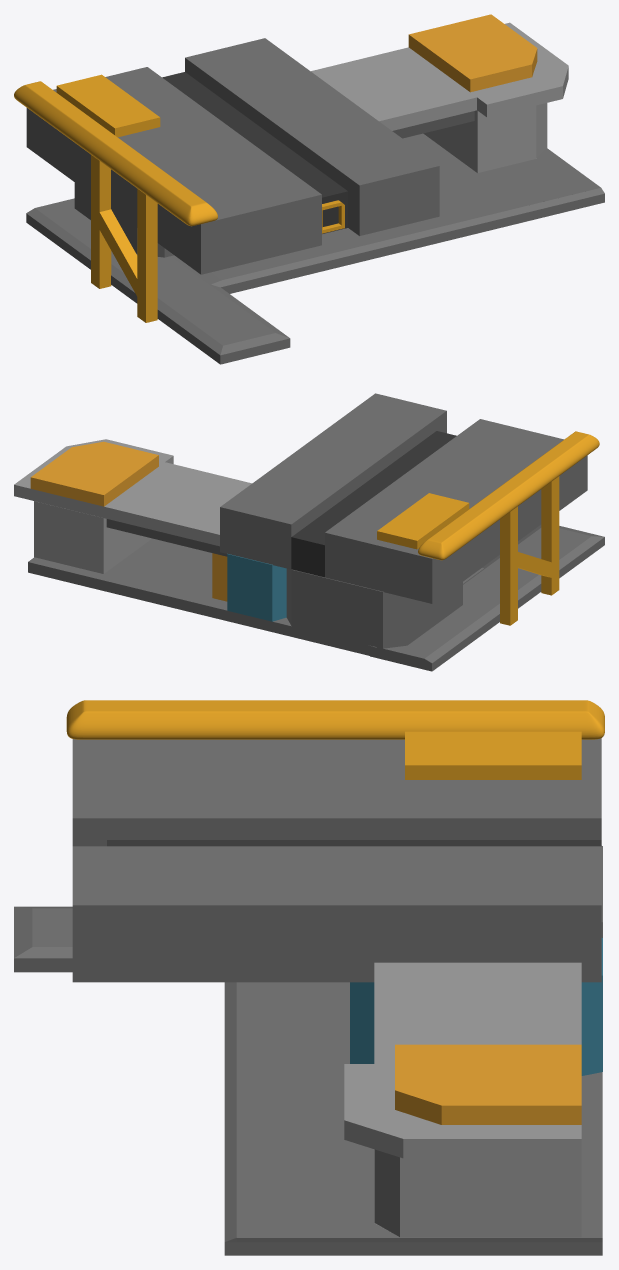
3 renders of one model, top to bottom at view 1: azimuth 30°, elevation 25°; view 2: azimuth 150°, elevation 25°; view 3: azimuth 270°, elevation 25°, orthographic. The views are drawn at different scales.
Visible parts, largest first — view 1: Cube.004, Cube.008, Cube.012, Cube, Cube.017, Cube.010, Cube.019, Cube.016, Cube.007, Cube.020, Cube.018, Cube.001 (+4 smaller); view 2: Cube.004, Cube.008, Cube.012, Cube.006, Cube, Cube.017, Cube.010, Cube.019, Cube.016, Cube.007, Cube.011, Cube.020 (+6 smaller); view 3: Cube.008, Cube.004, Cube.012, Cube.010, Cube.017, Cube.016, Cube.019, Cube.018, Cube.020, Cube.011, Cube, Cube.007.
Boxes of the visible parts, bbox=[...] form: Cube.004: bbox=[26, 67, 321, 274]; Cube.008: bbox=[185, 38, 439, 235]; Cube.012: bbox=[172, 133, 604, 293]; Cube: bbox=[26, 198, 290, 364]; Cube.017: bbox=[311, 47, 476, 130]; Cube.010: bbox=[14, 81, 217, 226]; Cube.019: bbox=[408, 14, 537, 92]; Cube.016: bbox=[423, 103, 547, 173]; Cube.007: bbox=[162, 72, 347, 233]; Cube.020: bbox=[56, 74, 160, 137]; Cube.018: bbox=[471, 22, 568, 117]; Cube.001: bbox=[137, 189, 157, 322]; Cube.004: bbox=[325, 419, 587, 603]; Cube.008: bbox=[220, 393, 446, 569]; Cube.012: bbox=[28, 538, 483, 662]; Cube.006: bbox=[286, 568, 462, 648]; Cube: bbox=[370, 524, 604, 671]; Cube.017: bbox=[103, 462, 251, 546]; Cube.010: bbox=[418, 431, 599, 560]; Cube.019: bbox=[30, 441, 158, 506]; Cube.016: bbox=[34, 501, 151, 573]; Cube.007: bbox=[291, 431, 456, 577]; Cube.011: bbox=[227, 553, 286, 621]; Cube.020: bbox=[377, 493, 469, 549]; Cube.008: bbox=[72, 846, 601, 982]; Cube.004: bbox=[72, 738, 601, 846]; Cube.012: bbox=[224, 982, 602, 1255]; Cube.010: bbox=[66, 700, 604, 739]; Cube.017: bbox=[374, 962, 581, 1064]; Cube.016: bbox=[374, 1149, 581, 1237]; Cube.019: bbox=[395, 1044, 581, 1124]; Cube.018: bbox=[344, 1064, 581, 1158]; Cube.020: bbox=[405, 731, 581, 779]; Cube.011: bbox=[350, 938, 602, 1075]; Cube: bbox=[14, 906, 72, 972]; Cube.007: bbox=[107, 840, 601, 846].
Size of the model in its own units: 3867 by 1088 by 2663.
